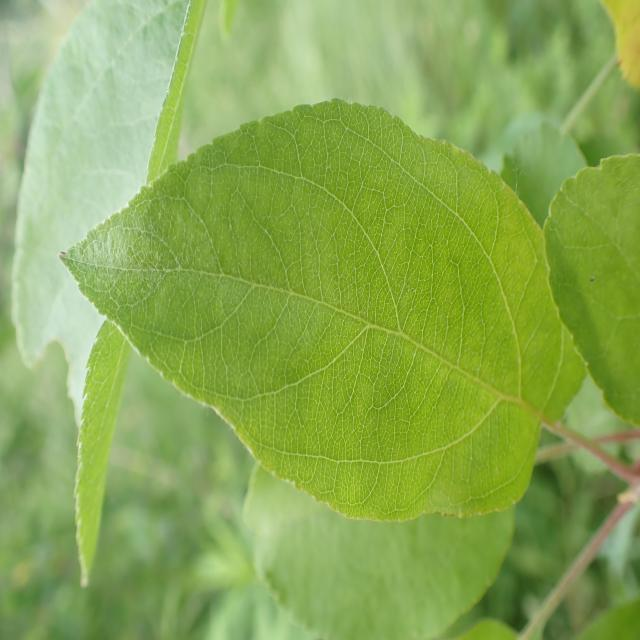healthy: (59, 98, 590, 525), (12, 0, 205, 587), (240, 456, 516, 639), (542, 154, 640, 429)
